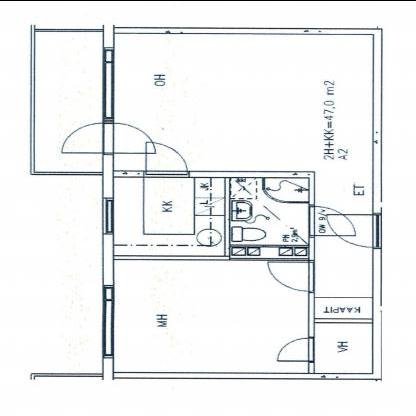door: (60, 119, 161, 155), (323, 207, 385, 251), (264, 254, 318, 298), (140, 137, 193, 179), (109, 118, 158, 160), (61, 119, 109, 154), (275, 331, 319, 365)
window: (94, 281, 123, 363), (96, 43, 122, 121), (99, 191, 122, 241)
